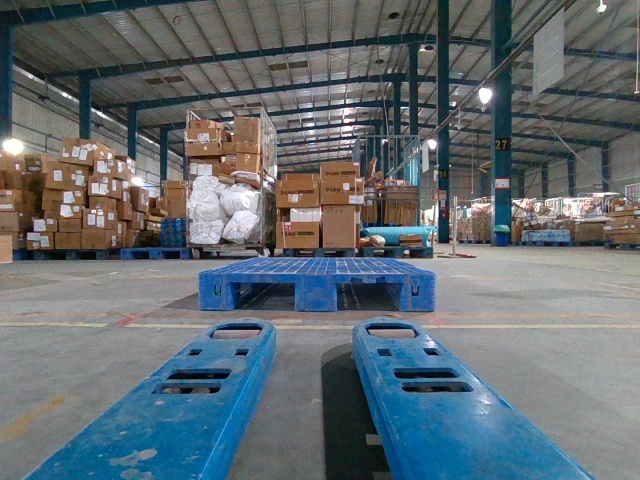block: (295, 271, 338, 310), (196, 274, 233, 313), (401, 271, 434, 312)
front: (196, 273, 434, 312)
hole pallet: (334, 278, 405, 310), (225, 281, 298, 310)
